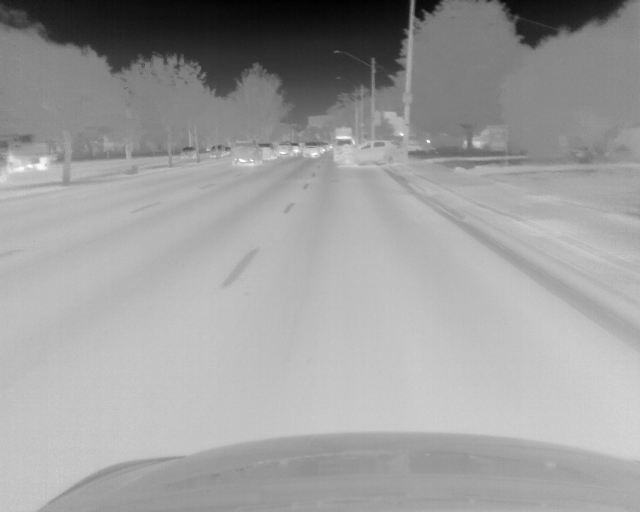car: (1, 139, 57, 176), (356, 139, 403, 168), (332, 127, 355, 168), (232, 140, 262, 165), (258, 144, 279, 161), (302, 142, 319, 161), (180, 144, 197, 161), (208, 144, 225, 158), (280, 143, 294, 159), (292, 143, 302, 155)
